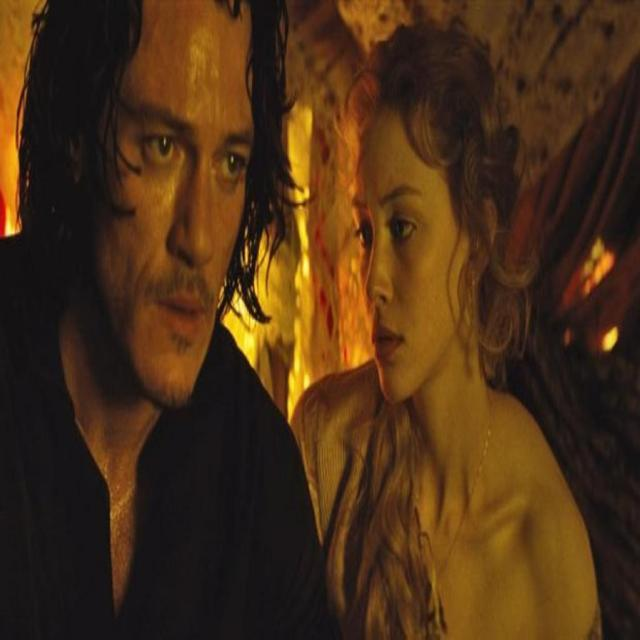nomask: (101, 7, 251, 399), (355, 124, 471, 394)
